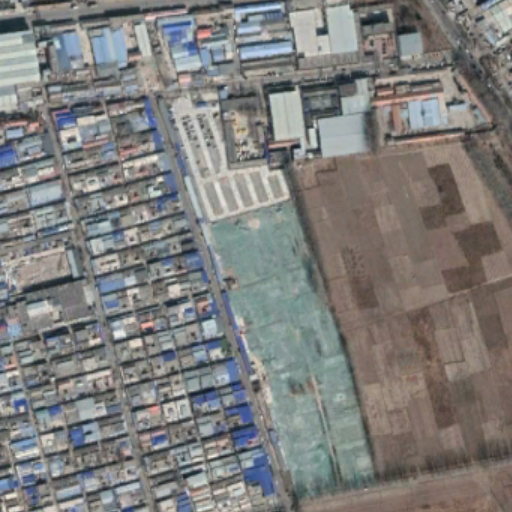cw: (205, 197, 377, 495)
